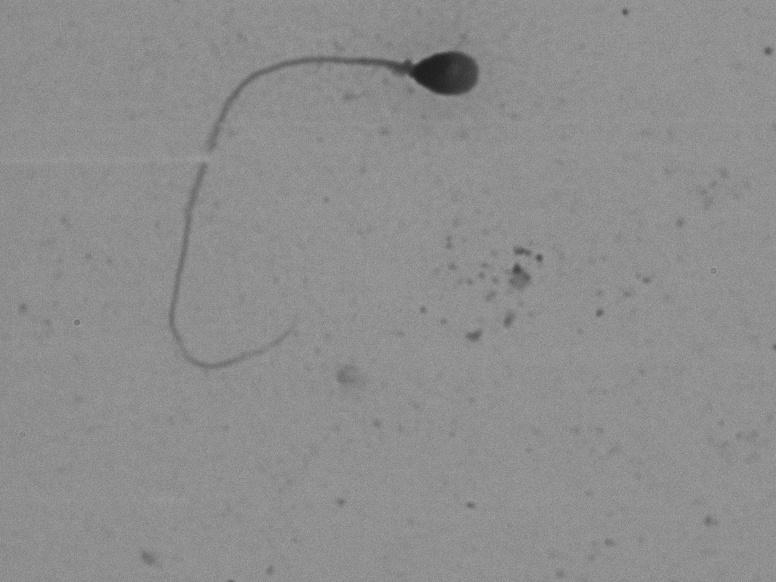Normal: (137, 30, 498, 376)
